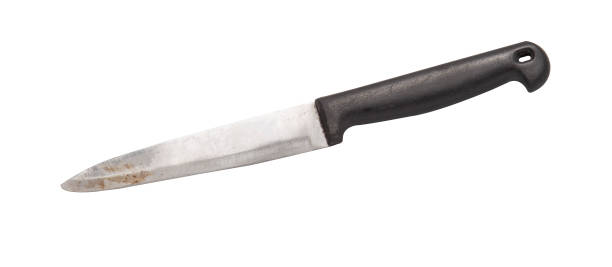knife: (51, 34, 553, 197)
